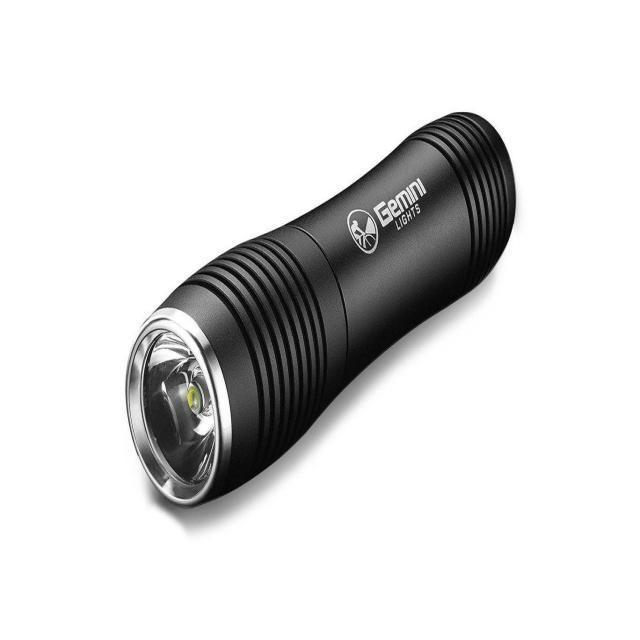Flashlight: (119, 104, 522, 514)
